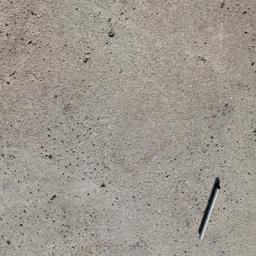FOD: (199, 175, 222, 244)
